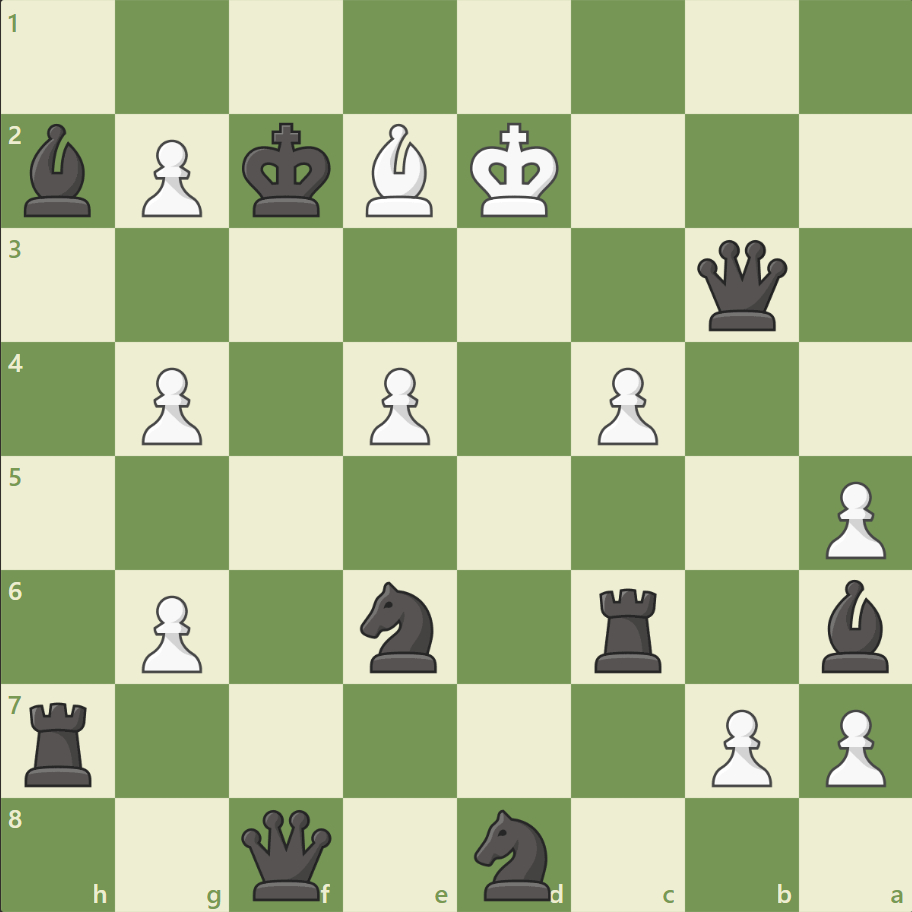B: (358, 120, 442, 222)
K: (465, 117, 565, 225)
P: (701, 700, 776, 791), (133, 586, 208, 677), (133, 359, 208, 450), (133, 132, 208, 223), (815, 700, 889, 791), (815, 473, 889, 564), (588, 359, 662, 450), (361, 359, 435, 450)
b: (812, 574, 896, 676), (17, 120, 101, 222)
k: (238, 117, 338, 225)
n: (351, 575, 449, 677), (465, 802, 562, 904)
q: (237, 804, 336, 903), (691, 236, 790, 335)
r: (19, 693, 102, 790), (587, 579, 670, 676)
